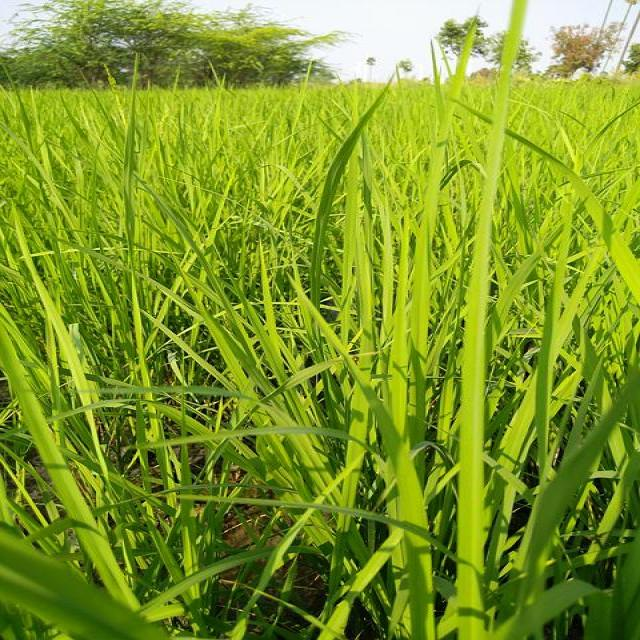Rice: (458, 4, 528, 640), (515, 371, 636, 606), (3, 338, 97, 534), (0, 536, 153, 640), (384, 193, 442, 425), (340, 218, 375, 533), (384, 424, 433, 640), (532, 209, 570, 470), (578, 186, 640, 304), (19, 224, 72, 336), (515, 125, 599, 187), (183, 452, 206, 622), (333, 156, 352, 328)
